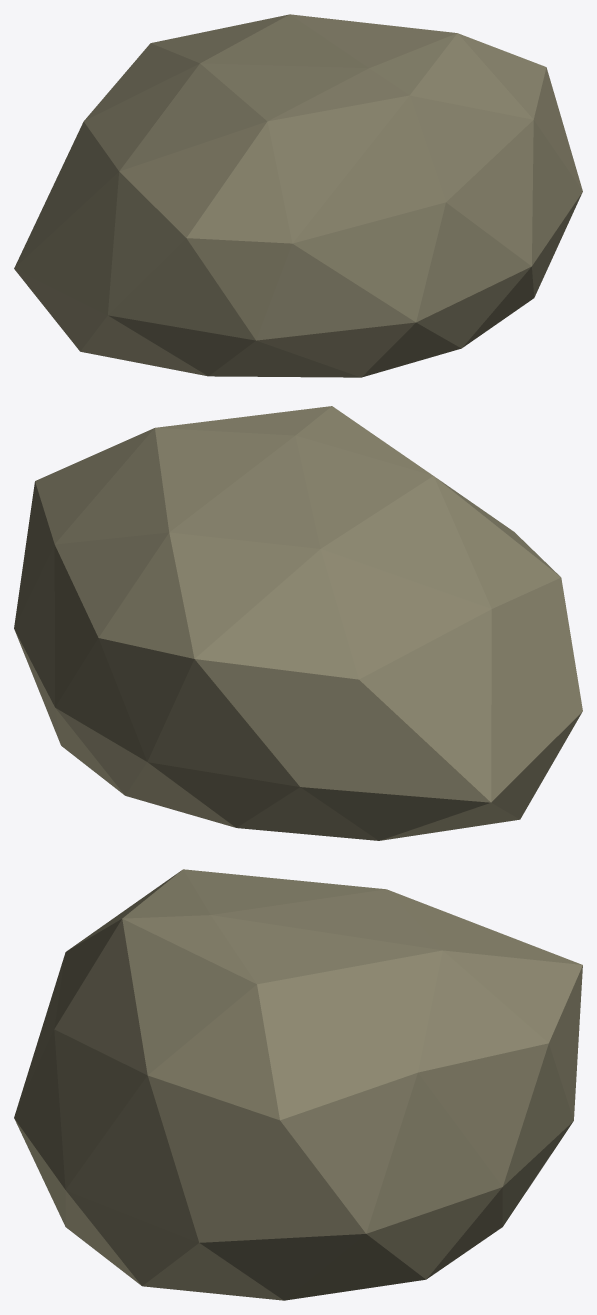
The model's file is rock1.dae.
The picture shows the model from 3 angles, top to bottom: view 1: azimuth 30°, elevation 25°; view 2: azimuth 150°, elevation 25°; view 3: azimuth 270°, elevation 25°; orthographic projection. The views are drawn at different scales.
Visible parts, largest first — view 1: caillou1; view 2: caillou1; view 3: caillou1.
Boxes of the visible parts, x1,y1,x2,y2 form: caillou1: (14, 14, 582, 377); caillou1: (14, 406, 582, 840); caillou1: (14, 869, 582, 1300).
Bounding box in the file's own units: 0.8107 × 0.6999 × 0.416.
